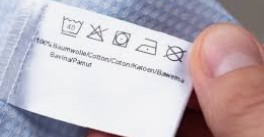ER_iron_low_temp: (134, 36, 160, 58)
ER_no_bleach: (86, 21, 109, 45)
ER_no_dry_clean: (162, 43, 188, 66)
ER_tumble_dry_low_heat: (110, 27, 133, 51)
ER_wash_40_mild: (60, 13, 85, 39)
